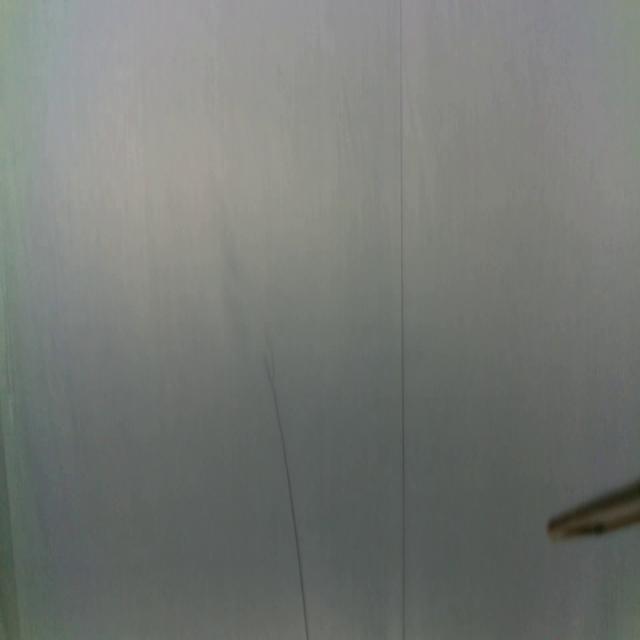crease: (260, 342, 311, 639), (396, 0, 408, 639), (0, 425, 23, 640)
